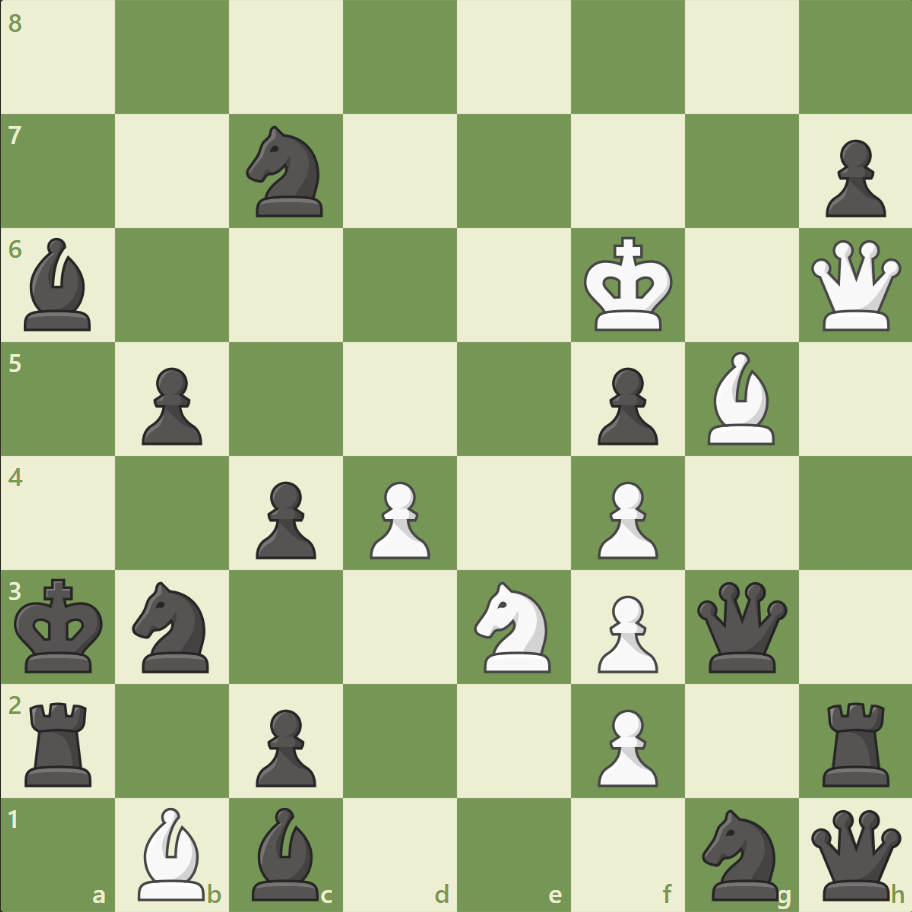B: (131, 801, 215, 904), (698, 347, 782, 449)
K: (579, 231, 679, 339)
N: (465, 575, 562, 677)
P: (361, 473, 435, 564), (588, 473, 662, 564), (588, 586, 662, 677), (588, 700, 662, 791)
Q: (805, 236, 904, 335)
b: (17, 233, 101, 336), (244, 801, 328, 904)
k: (11, 571, 111, 679)
n: (124, 575, 222, 677), (238, 121, 335, 223), (692, 802, 789, 904)
p: (133, 359, 208, 450), (247, 473, 322, 564), (247, 700, 322, 791), (815, 132, 889, 223), (588, 359, 662, 450)
q: (691, 576, 790, 676), (805, 804, 904, 903)
r: (19, 693, 102, 790), (814, 693, 897, 790)
